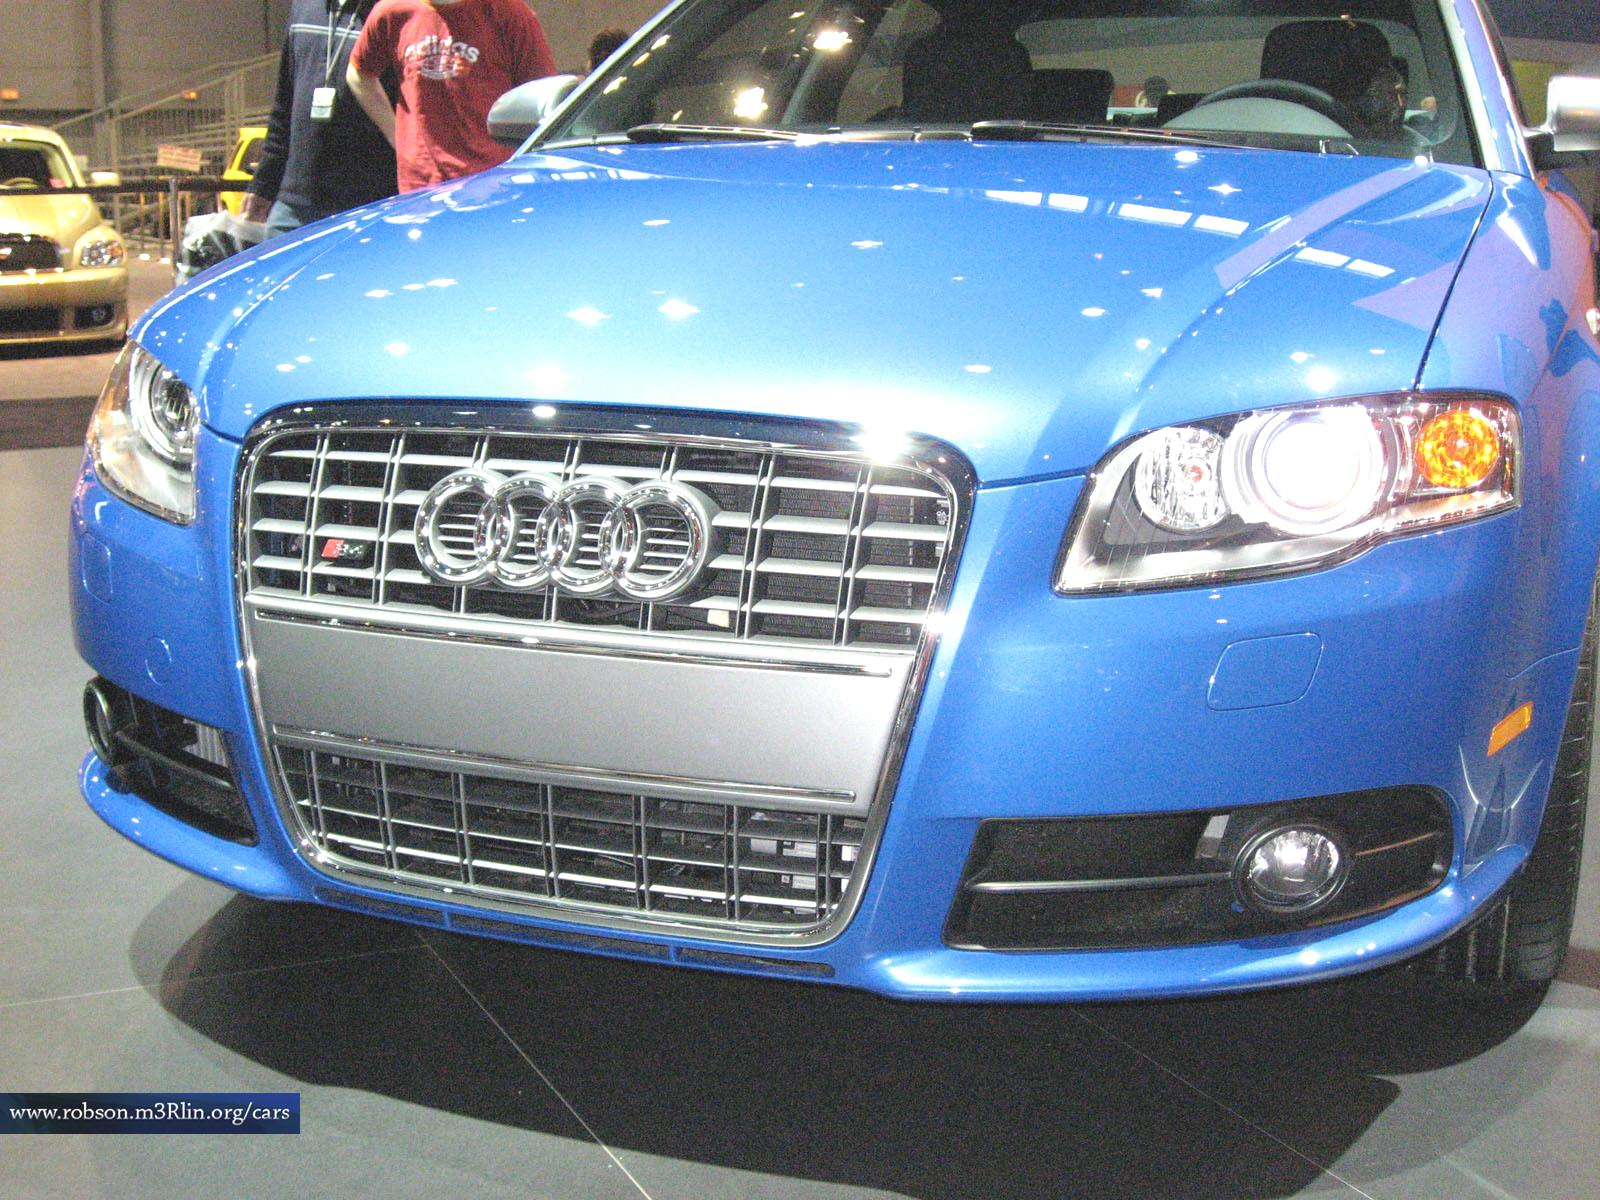Audi: (397, 447, 766, 613)
